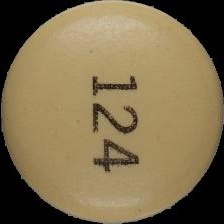53808-1047: (0, 0, 224, 224)
